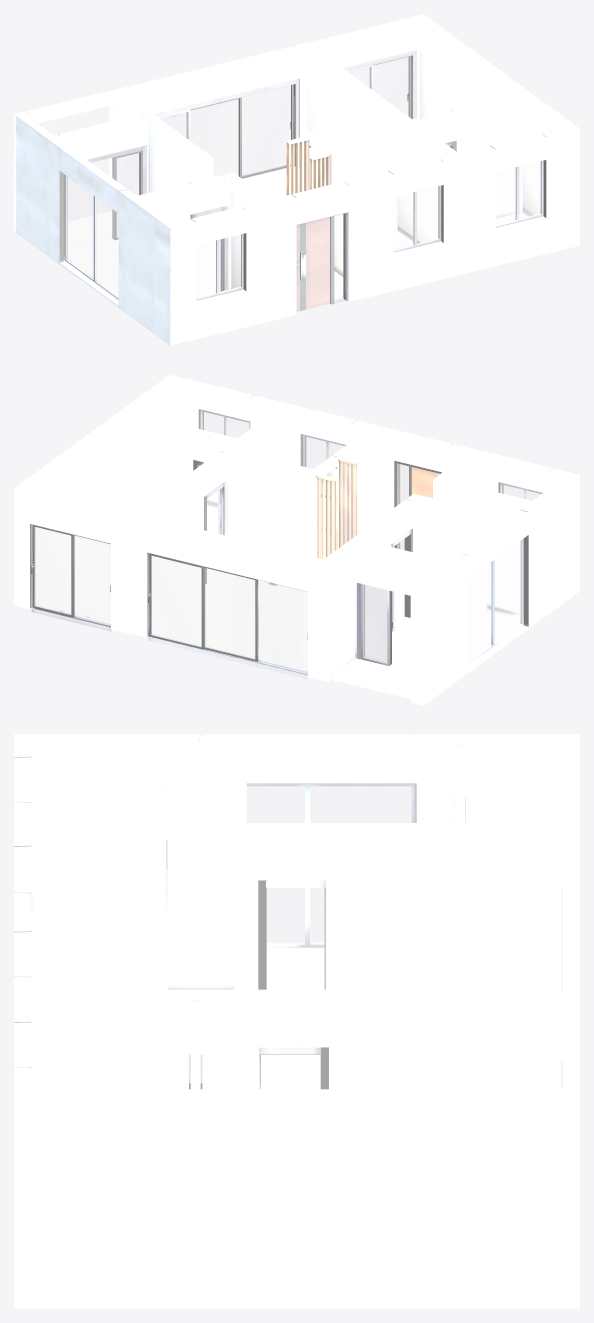
The model's file is TeRaki-05.glb.
3 renders of one model, top to bottom at view 1: azimuth 30°, elevation 25°; view 2: azimuth 150°, elevation 25°; view 3: azimuth 270°, elevation 25°, orthographic. The views are drawn at different scales.
Parts seen in each view (by area): view 1: Apartment.001, DS_PI_HingedDoor_0_Floor_0, DS_PI_GlassSlidingDoor_2_Floor_0, DS_PI_GlassSlidingDoor_0_Floor_0, DS_PI_PartitionWall_0_Floor_0, DS_PI_GlassSlidingDoor_1_Floor_0, DS_PI_HingedWindow_3_Floor_0, DS_PI_PartitionWall_1_Floor_0, DS_PI_HingedWindow_2_Floor_0, DS_PI_PocketDoor_2_Floor_0, DS_PI_HingedWindow_1_Floor_0, DS_PI_HingedWindow_0_Floor_0; view 2: Apartment.001, DS_PI_GlassSlidingDoor_2_Floor_0, DS_PI_GlassSlidingDoor_0_Floor_0, DS_PI_PartitionWall_0_Floor_0, DS_PI_GlassSlidingDoor_1_Floor_0, DS_PI_PartitionWall_1_Floor_0, DS_PI_HingedDoor_0_Floor_0, DS_PI_HingedWindow_3_Floor_0, DS_PI_PocketDoor_0_Floor_0, DS_PI_PocketDoor_1_Floor_0; view 3: Apartment.001, DS_PI_PocketDoor_1_Floor_0, DS_PI_HingedWindow_3_Floor_0, DS_PI_PocketDoor_0_Floor_0.
Part boxes in pixels (x1,y1,x2,y2): Apartment.001: (14,14,579,345); DS_PI_HingedDoor_0_Floor_0: (296,212,346,311); DS_PI_GlassSlidingDoor_2_Floor_0: (154,78,299,179); DS_PI_GlassSlidingDoor_0_Floor_0: (67,145,146,251); DS_PI_PartitionWall_0_Floor_0: (286,136,311,195); DS_PI_GlassSlidingDoor_1_Floor_0: (343,50,416,118); DS_PI_HingedWindow_3_Floor_0: (64,174,118,300); DS_PI_PartitionWall_1_Floor_0: (309,152,330,189); DS_PI_HingedWindow_2_Floor_0: (496,160,543,227); DS_PI_PocketDoor_2_Floor_0: (190,205,228,291); DS_PI_HingedWindow_1_Floor_0: (393,185,441,252); DS_PI_HingedWindow_0_Floor_0: (196,233,243,300); Apartment.001: (14,374,579,705); DS_PI_GlassSlidingDoor_2_Floor_0: (147,552,310,679); DS_PI_GlassSlidingDoor_0_Floor_0: (357,583,410,670); DS_PI_PartitionWall_0_Floor_0: (316,473,338,559); DS_PI_GlassSlidingDoor_1_Floor_0: (30,524,113,631); DS_PI_PartitionWall_1_Floor_0: (335,457,358,547); DS_PI_HingedDoor_0_Floor_0: (394,460,441,548); DS_PI_HingedWindow_3_Floor_0: (469,539,523,664); DS_PI_PocketDoor_0_Floor_0: (204,481,226,583); DS_PI_PocketDoor_1_Floor_0: (391,528,412,631); Apartment.001: (14,734,579,1308); DS_PI_PocketDoor_1_Floor_0: (258,880,333,989); DS_PI_HingedWindow_3_Floor_0: (246,783,415,947); DS_PI_PocketDoor_0_Floor_0: (251,1047,328,1089).
Bounding box in the file's own units: 10.26 × 2.9 × 6.77.
Materials: 1 (1 with a texture image).
